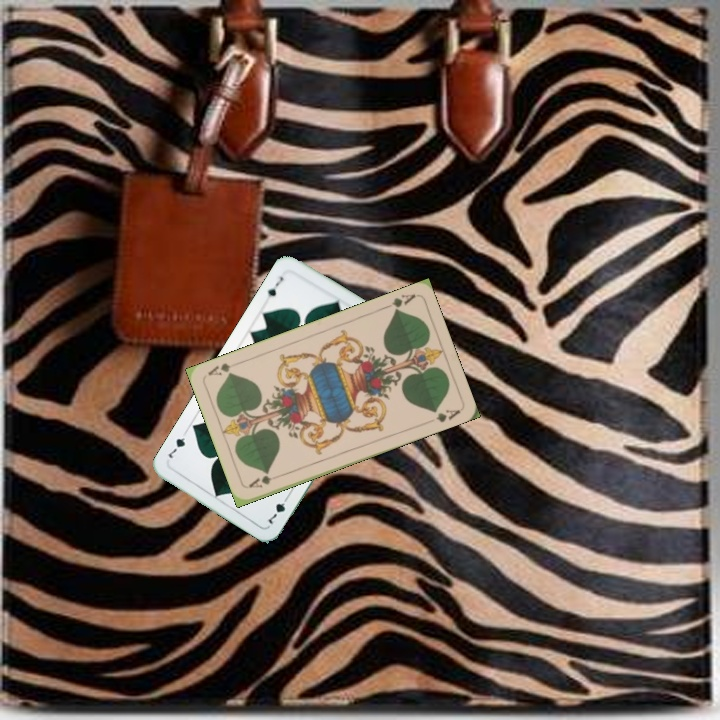G7: (264, 491, 292, 527), (263, 272, 286, 300)
GA: (379, 289, 418, 315), (245, 471, 274, 490)
